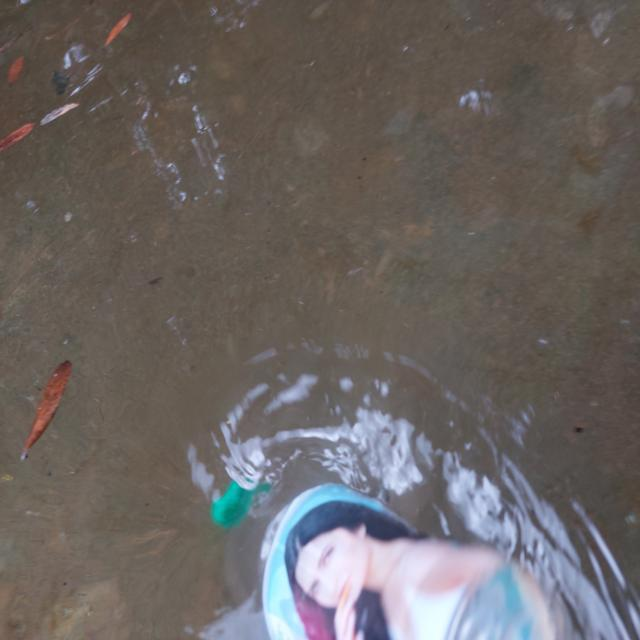leaf: (10, 342, 72, 466), (95, 0, 130, 47), (3, 39, 38, 81), (4, 109, 36, 143)
waterbottle: (172, 330, 640, 640)
